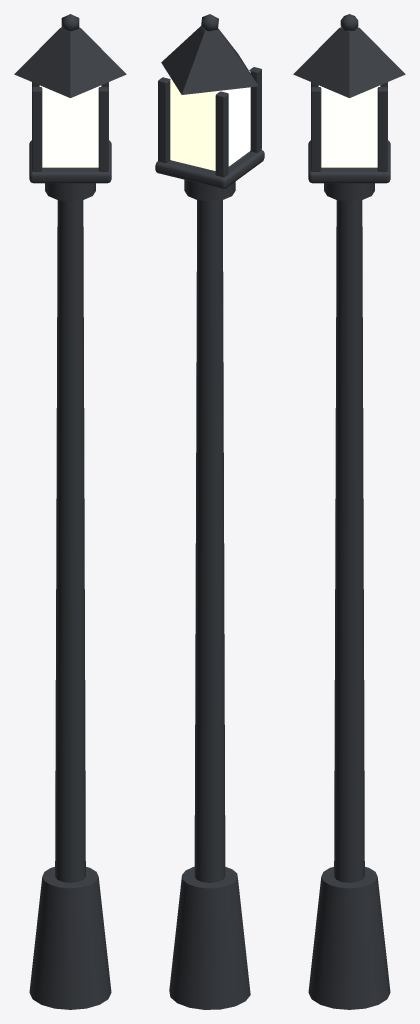
File: street_lamp.glb
The picture shows the model from 3 angles, left to right: view 1: azimuth 90°, elevation 25°; view 2: azimuth 150°, elevation 25°; view 3: azimuth 270°, elevation 25°; orthographic projection.
Parts seen in each view (by area): view 1: street_lamp; view 2: street_lamp; view 3: street_lamp.
Part boxes in pixels (<box>): street_lamp: <box>14,14,126,1009</box>; street_lamp: <box>155,14,264,1009</box>; street_lamp: <box>293,14,405,1009</box>.
Size of the model in its own units: 0.44 by 4.21 by 0.44.
